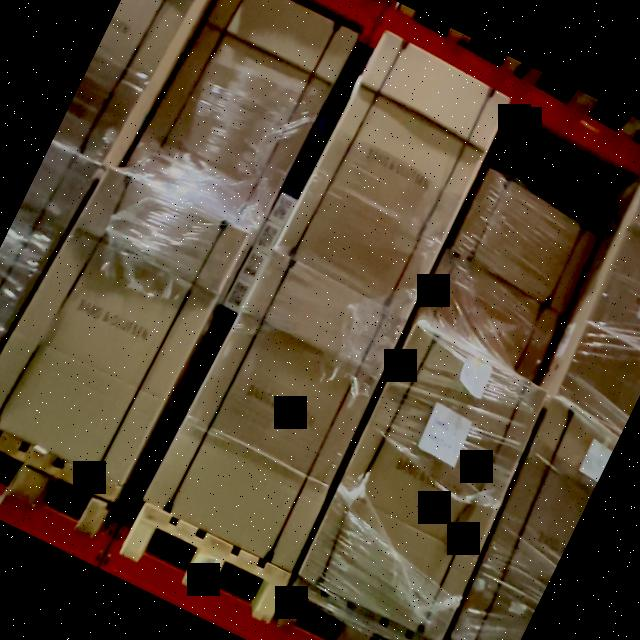box: (148, 247, 406, 568), (0, 165, 247, 483), (299, 325, 547, 640), (276, 34, 511, 314), (122, 0, 354, 235), (453, 175, 598, 316), (418, 254, 561, 383)
